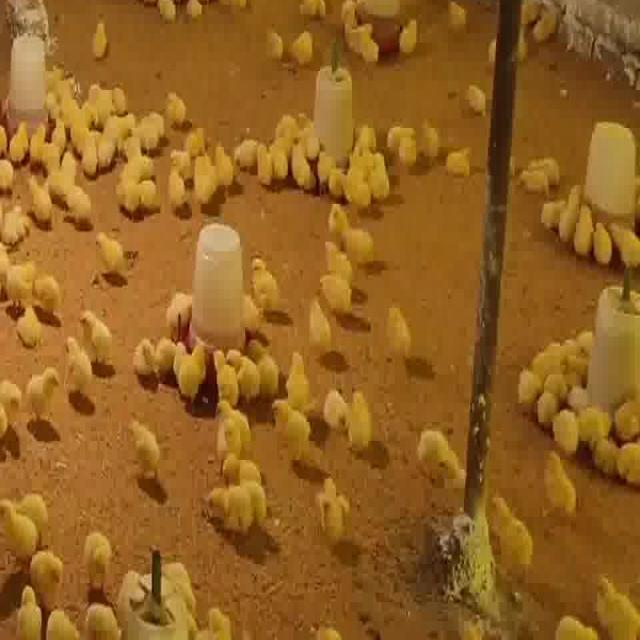poussin: (599, 546, 636, 638), (216, 376, 264, 446), (198, 484, 270, 530), (0, 475, 54, 533), (132, 394, 176, 460), (285, 322, 321, 402), (416, 416, 458, 484), (538, 450, 578, 520), (322, 392, 365, 456), (493, 495, 534, 561), (554, 576, 596, 638), (78, 304, 120, 365), (321, 356, 371, 404), (60, 337, 100, 397), (55, 594, 104, 640), (115, 164, 161, 213), (319, 247, 357, 306), (28, 370, 66, 428), (80, 508, 114, 572), (177, 336, 211, 398), (341, 217, 380, 270), (242, 302, 274, 366), (229, 584, 265, 640), (213, 454, 270, 488), (318, 479, 346, 548), (46, 566, 82, 618), (252, 248, 283, 308), (607, 214, 640, 270), (19, 560, 42, 638), (306, 290, 338, 346), (195, 587, 228, 640), (162, 543, 198, 591), (27, 530, 70, 570), (346, 240, 372, 305), (132, 341, 174, 381), (52, 60, 76, 130), (439, 145, 483, 181), (0, 248, 35, 292), (90, 235, 130, 273), (12, 306, 44, 352), (292, 116, 314, 182), (228, 310, 254, 365), (390, 301, 412, 364), (552, 392, 582, 438), (355, 25, 387, 68), (230, 129, 260, 174), (324, 188, 354, 233), (195, 150, 218, 207), (125, 105, 154, 150), (214, 318, 239, 370), (538, 192, 568, 234), (26, 186, 54, 230), (444, 0, 477, 37), (1, 194, 30, 236), (96, 108, 122, 154), (572, 209, 596, 257), (394, 17, 422, 58), (162, 87, 188, 130), (616, 422, 640, 468), (89, 564, 118, 602), (556, 202, 582, 244), (590, 420, 620, 456), (54, 136, 74, 189), (421, 118, 444, 164), (210, 150, 232, 198), (273, 122, 295, 170), (288, 30, 318, 65), (514, 353, 538, 396), (580, 390, 612, 422), (166, 128, 198, 159), (564, 316, 594, 349), (0, 154, 27, 190), (368, 150, 389, 196), (526, 157, 556, 189), (592, 223, 612, 271), (540, 326, 572, 356), (0, 381, 26, 417), (8, 118, 28, 163), (614, 390, 640, 424), (34, 267, 58, 303), (80, 134, 101, 175), (68, 188, 89, 229), (256, 130, 276, 173), (466, 70, 488, 109), (324, 150, 348, 185), (347, 137, 365, 183), (142, 96, 166, 130), (186, 129, 211, 161), (277, 97, 300, 130), (168, 163, 186, 204), (84, 76, 110, 104), (266, 35, 290, 65), (294, 0, 330, 20), (538, 373, 556, 412), (386, 121, 416, 144), (108, 82, 128, 116), (70, 98, 96, 124), (42, 122, 64, 152), (92, 18, 109, 56), (31, 119, 46, 162), (402, 134, 422, 165), (545, 355, 566, 382), (160, 0, 178, 29), (186, 0, 203, 28)
